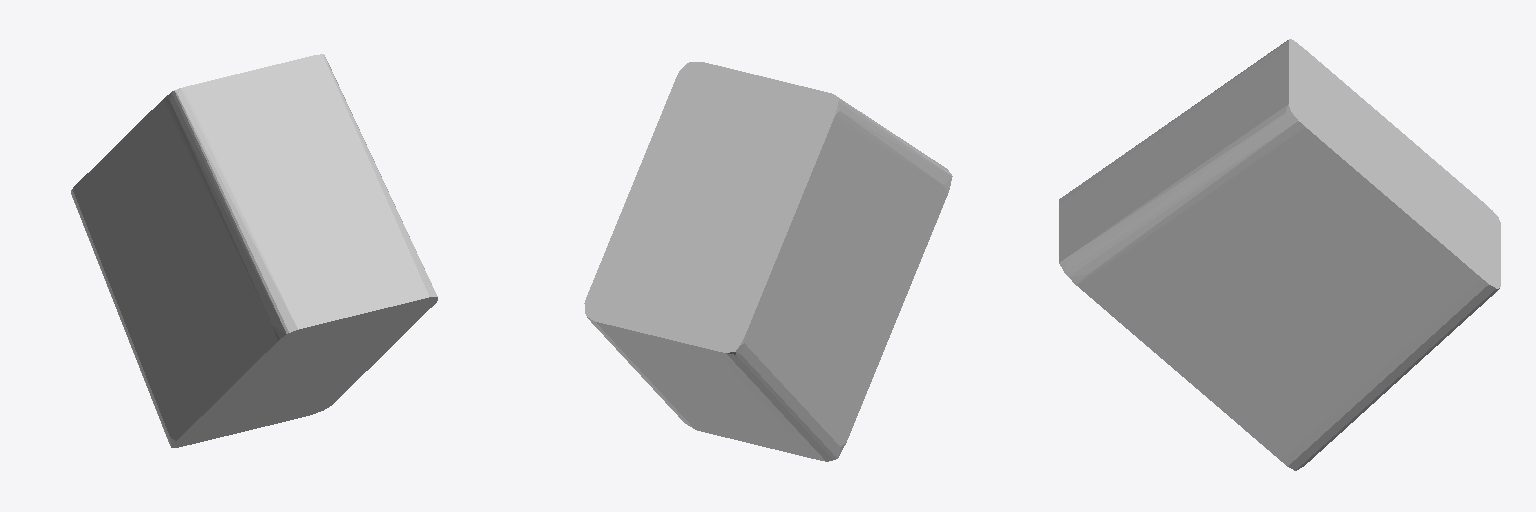
The model's file is Carbon_Mov_Finger_021_v1_1_mesh_collision_20.obj.
The picture shows the model from 3 angles: view 1: azimuth 30°, elevation 25°; view 2: azimuth 150°, elevation 25°; view 3: azimuth 270°, elevation 25°; orthographic projection.
Size of the model in its own units: 0.0033 by 0.0072 by 0.0079.